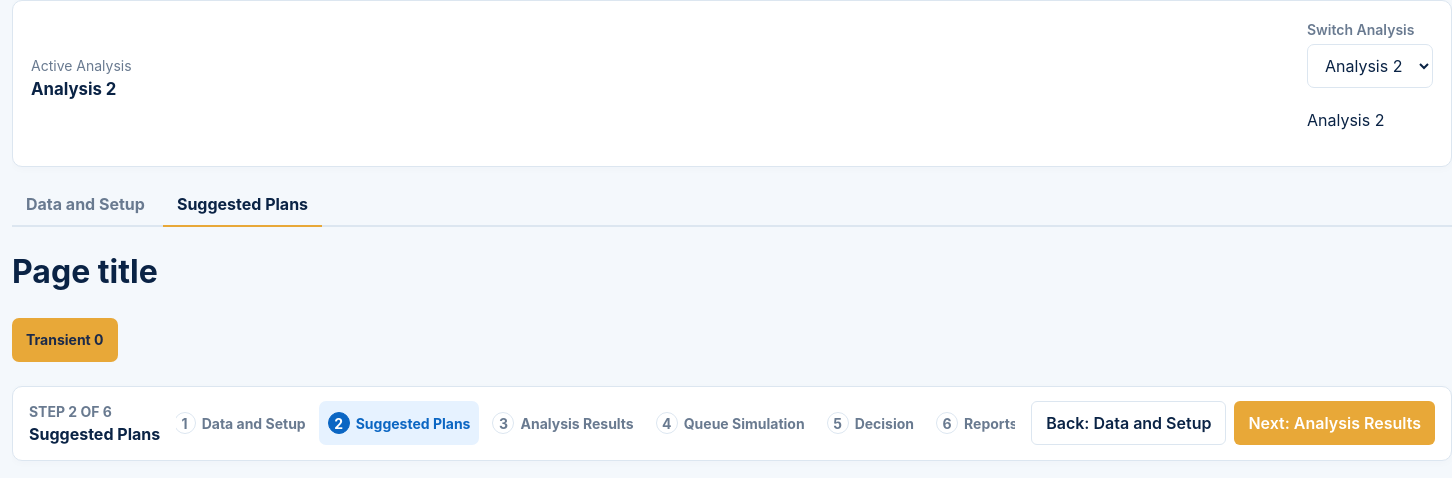
Test: AnalysisWorkspace › keeps the loaded current record selected when absent from the list (archived_at=null)
The image size is (1452, 478).
Check: the text "Analysis 2" below "Active Analysis" is shown, box [31,79,116,99]
Select "Analysis 1" in the dropdown labelled "Switch Analysis" at (1370, 66), box [1307,44,1433,88]
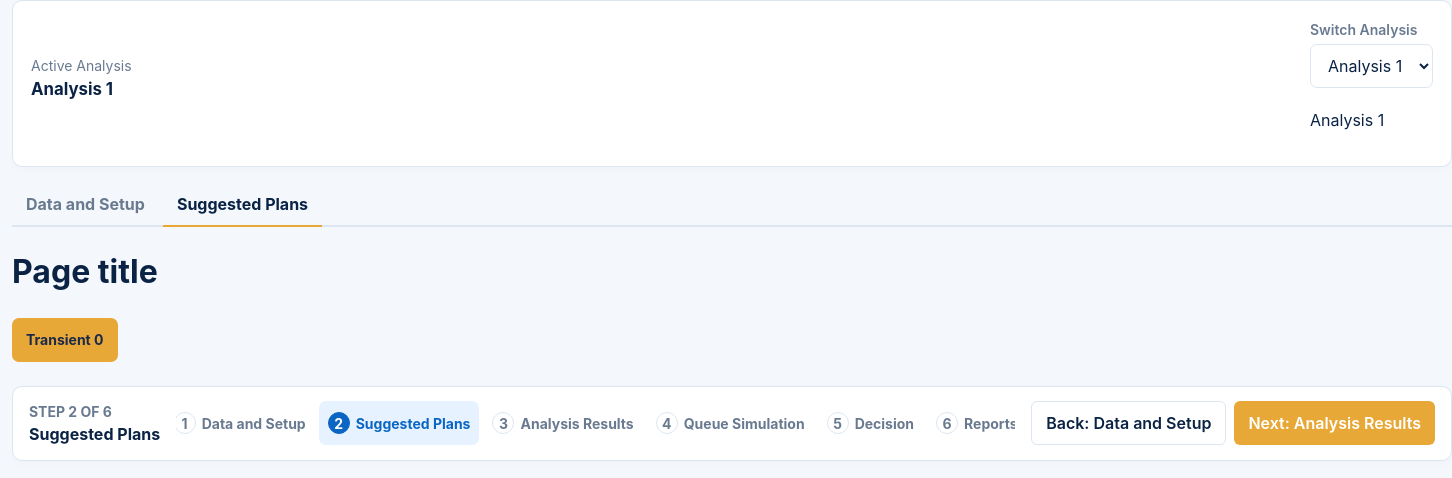
Check: the text "Analysis 1" below "Active Analysis" is shown, box [31,79,113,99]
